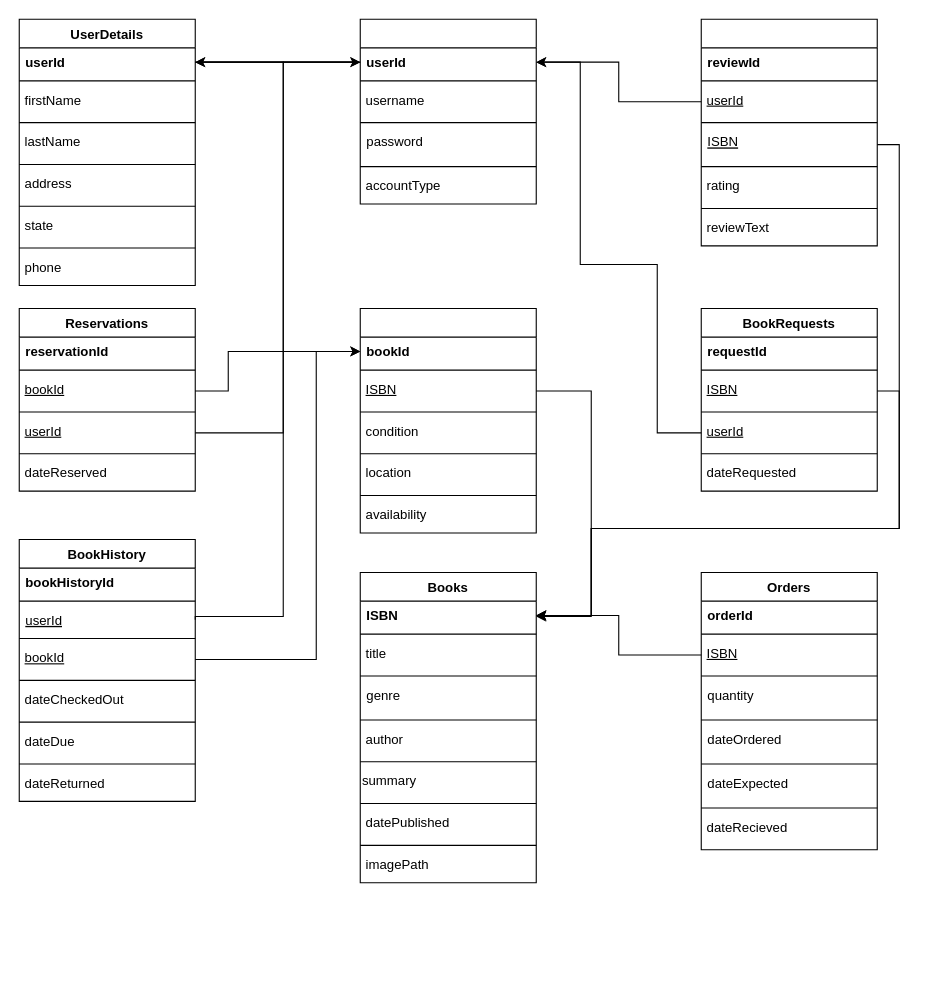
The diagram is 927 pixels wide and 999 high, and some of its shapes have lost their labels. The shapes that lost their labels are listed below. From the top down, each one's box as (x1, y1, x2, y2) in pixels, then its label:
(359, 18, 536, 204): Users
(700, 18, 877, 246): UserReviews
(359, 307, 536, 533): BookDetails
